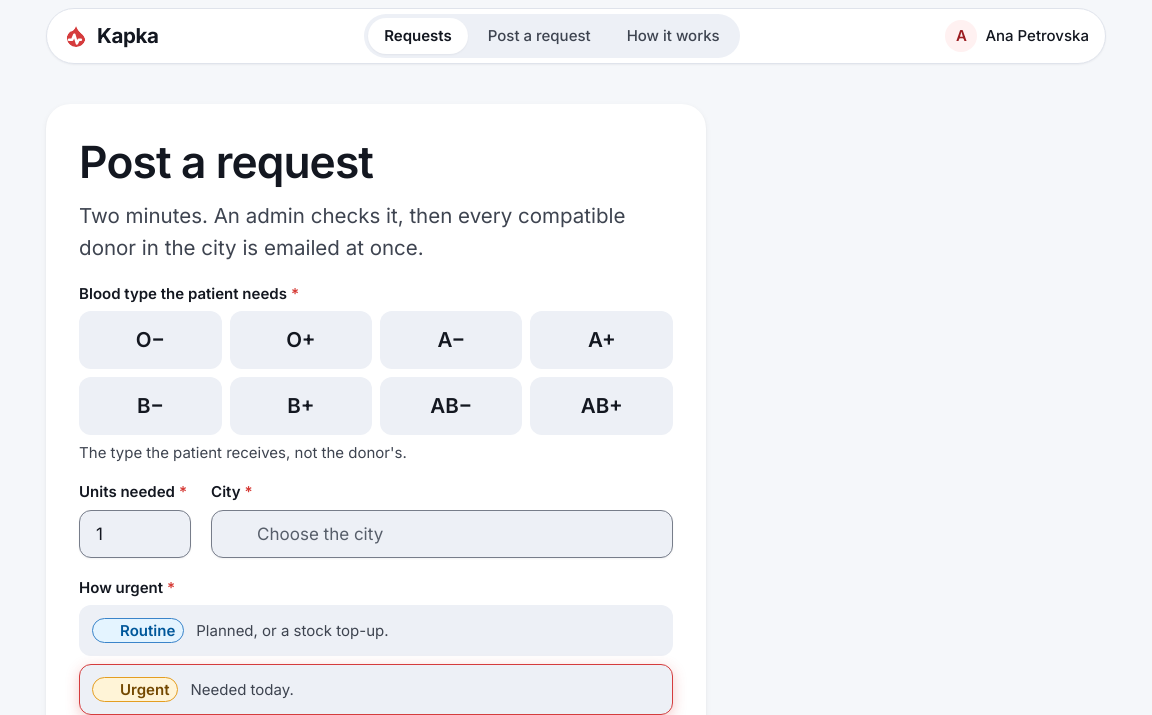
Test: posting a request › says an admin has it, not that donors have been emailed
The width and height of the screenshot is (1152, 715).
Click the button named "O negative" at (150, 340), box [79,311,222,369]
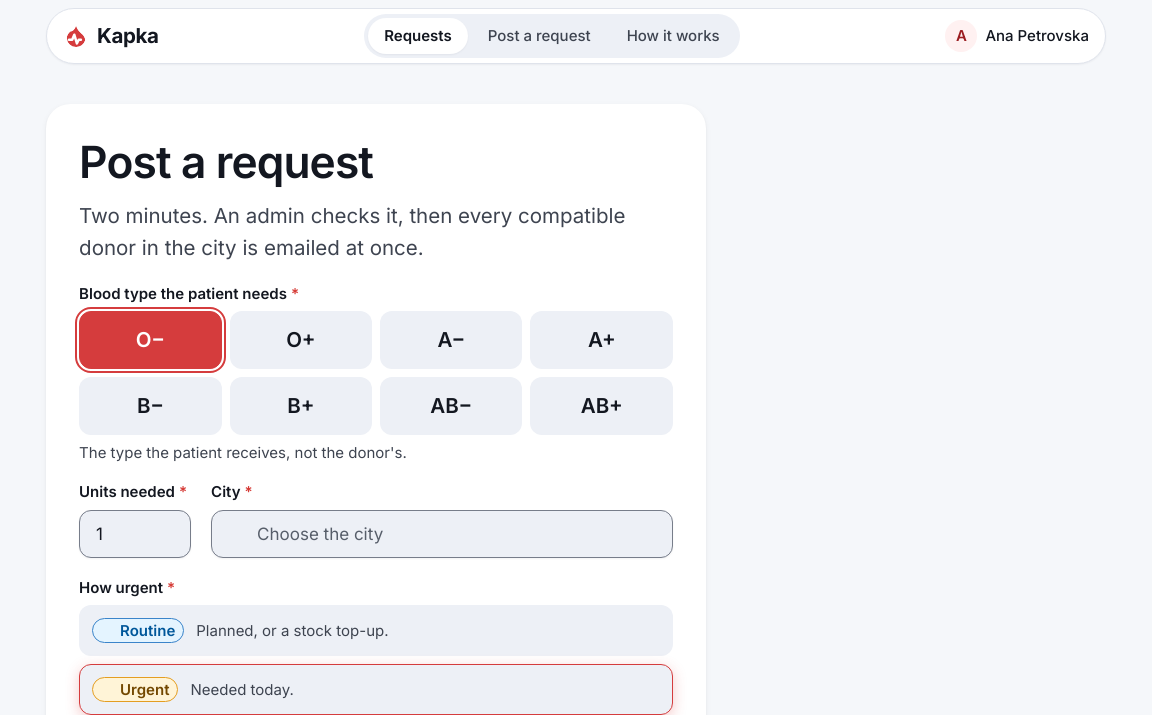
Click the dropdown labelled "Choose the city" at (320, 534), box [211,510,673,558]
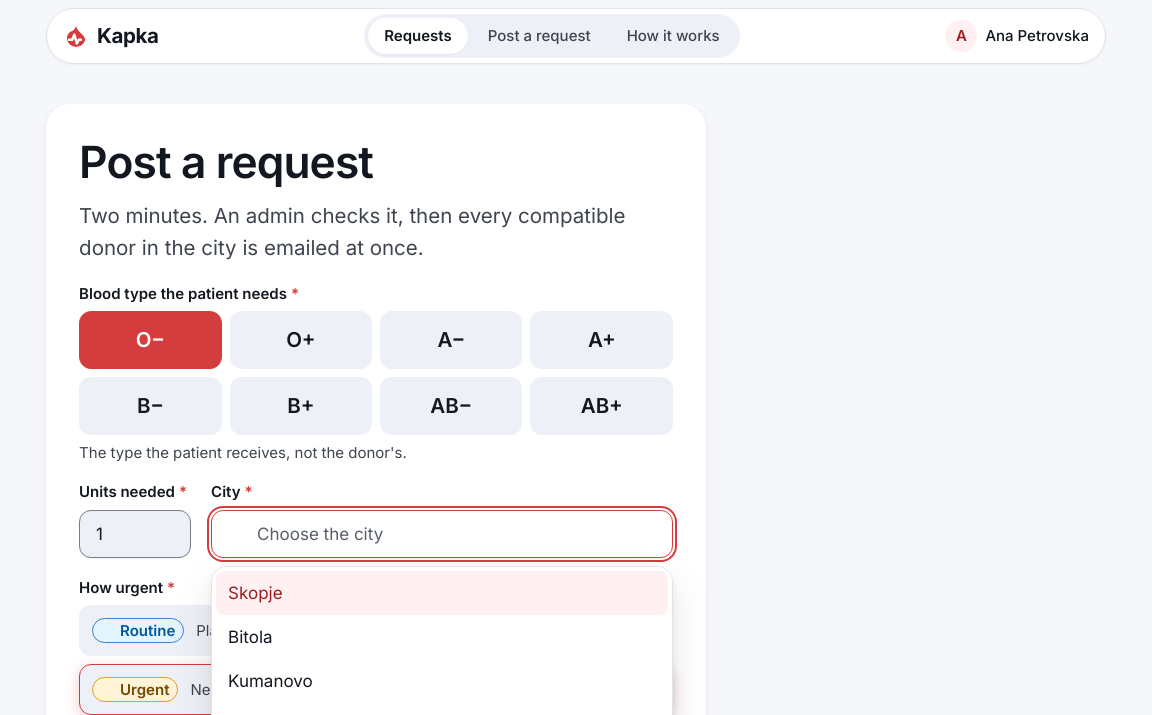
Click the option "Skopje" at (255, 593), box [216,571,668,615]
(page scrolled)
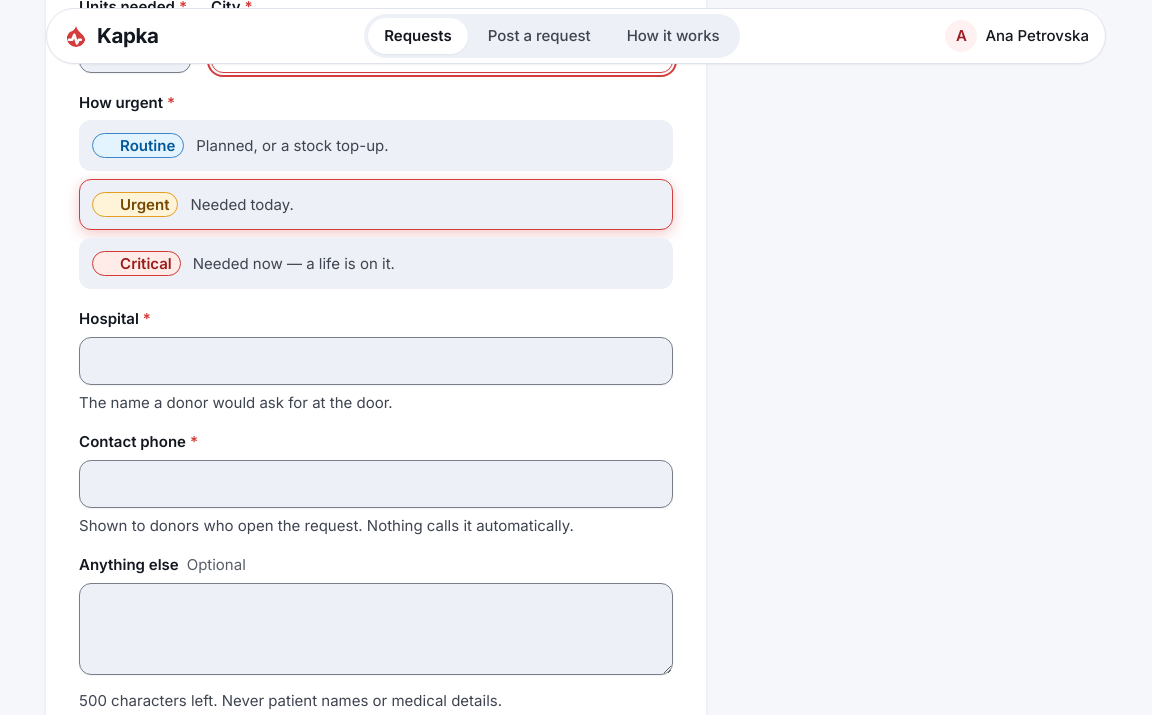
Type "City General" into the field labelled "Hospital*" at (376, 361), box [79,337,673,385]
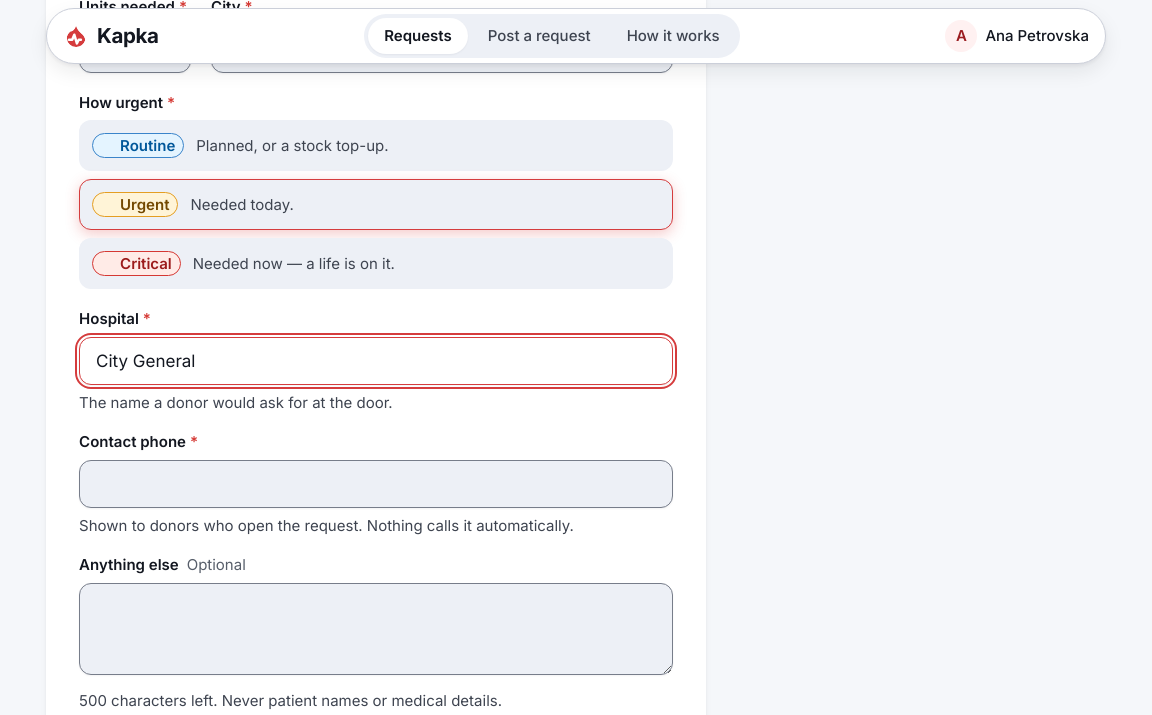
Type "+389 70 123 456" into the field labelled "Contact phone*" at (376, 484), box [79,460,673,508]
(page scrolled)
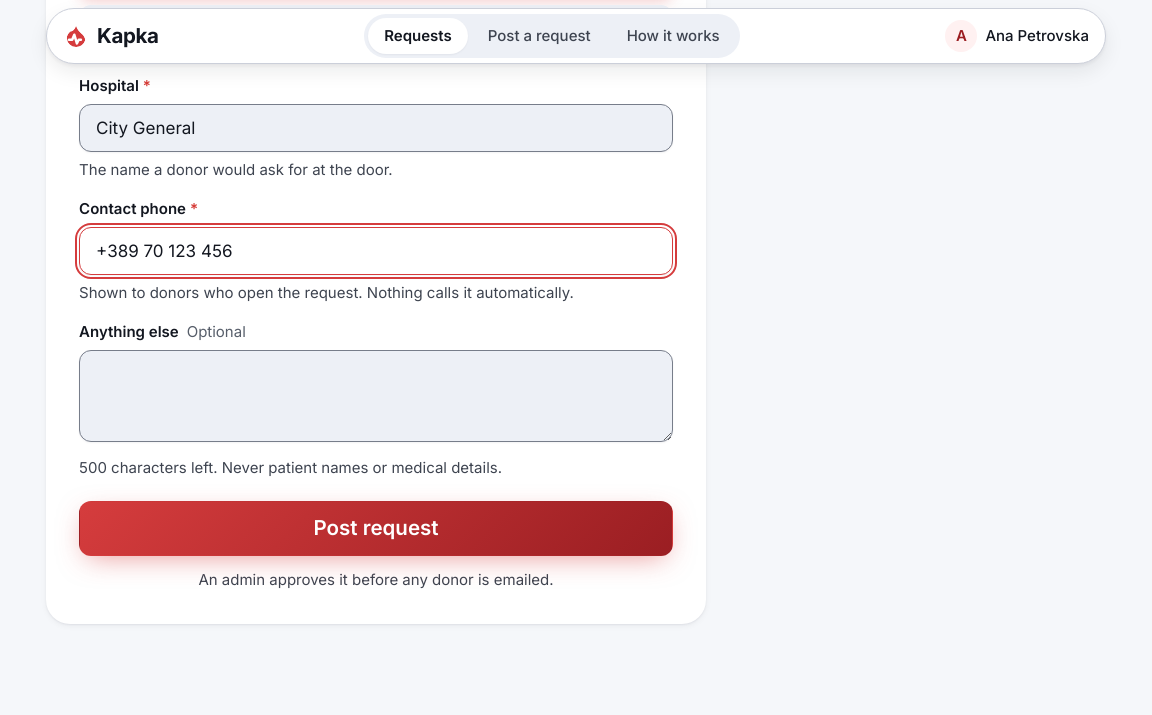
Click the button "Post request" at (376, 528), box [79,501,673,556]
(page scrolled)
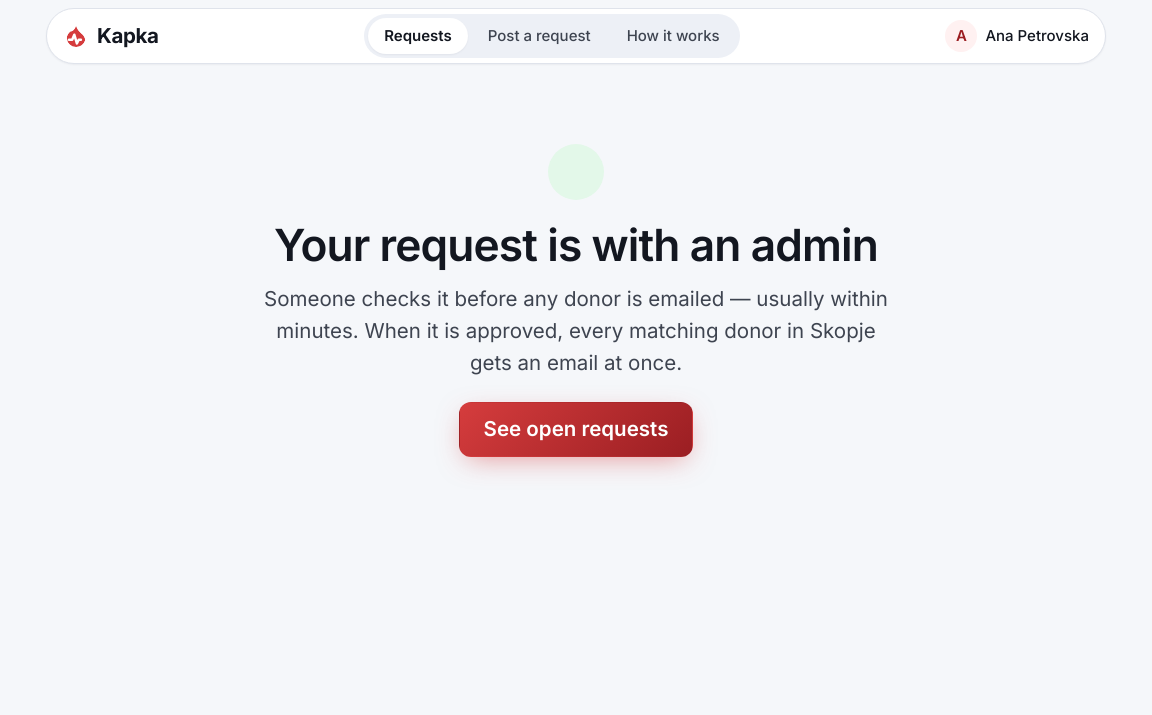
Now the heading "Your request is with an admin" is shown, box [254,220,898,271]
